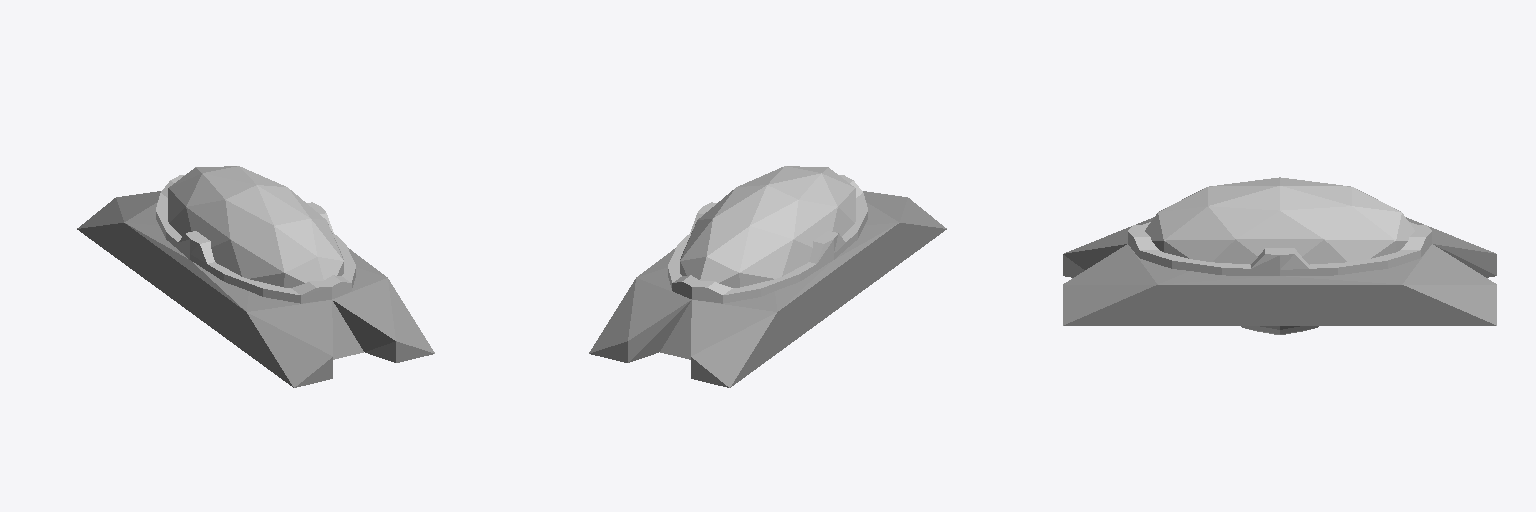
The model's file is cockpit_ven.obj.
3 renders of one model, left to right at view 1: azimuth 30°, elevation 25°; view 2: azimuth 150°, elevation 25°; view 3: azimuth 270°, elevation 25°, orthographic.
Parts seen in each view (by area): view 1: Base_Plane, Dome_Icosphere_Icosphere.001, Holding_Ring_Circle; view 2: Base_Plane, Dome_Icosphere_Icosphere.001, Holding_Ring_Circle; view 3: Base_Plane, Dome_Icosphere_Icosphere.001, Holding_Ring_Circle.
Part boxes in pixels (x1,y1,x2,y2): Base_Plane: (77, 191, 434, 387); Dome_Icosphere_Icosphere.001: (168, 166, 343, 287); Holding_Ring_Circle: (156, 175, 355, 303); Base_Plane: (589, 191, 946, 387); Dome_Icosphere_Icosphere.001: (680, 166, 855, 287); Holding_Ring_Circle: (668, 175, 867, 303); Base_Plane: (1063, 217, 1496, 325); Dome_Icosphere_Icosphere.001: (1145, 177, 1414, 264); Holding_Ring_Circle: (1128, 222, 1431, 275).
Size of the model in its own units: 0.75 by 0.7189 by 2.